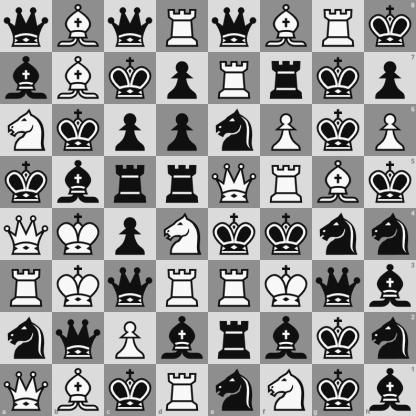B: (52, 364, 104, 416), (53, 1, 104, 52), (53, 53, 104, 104), (261, 1, 312, 52), (313, 157, 364, 208)
K: (53, 209, 104, 260), (53, 261, 104, 312), (261, 261, 312, 312)
N: (260, 364, 312, 416), (1, 105, 52, 156), (157, 209, 208, 260)
P: (364, 104, 416, 156), (105, 313, 156, 364), (261, 105, 312, 156)
Q: (0, 364, 52, 416), (1, 209, 52, 260), (209, 157, 260, 208)
R: (156, 364, 209, 416), (1, 261, 52, 312), (157, 1, 208, 52), (157, 261, 208, 312), (209, 53, 260, 104), (209, 261, 260, 312), (261, 157, 312, 208), (313, 1, 364, 52)
b: (364, 260, 416, 312), (364, 364, 416, 416), (1, 53, 52, 104), (53, 157, 104, 208), (157, 313, 208, 364), (261, 313, 312, 364)
board: (0, 0, 415, 415)
k: (364, 156, 416, 209), (104, 364, 156, 416), (312, 364, 364, 416), (364, 0, 416, 52), (1, 157, 52, 208), (53, 105, 104, 156), (105, 53, 156, 104), (209, 209, 260, 260), (261, 209, 312, 260), (313, 53, 364, 104), (313, 105, 364, 156), (313, 313, 364, 364)
n: (364, 312, 416, 364), (209, 364, 260, 416), (364, 209, 416, 260), (1, 313, 52, 364), (209, 105, 260, 156), (313, 209, 364, 260)
p: (364, 52, 416, 104), (105, 105, 156, 156), (105, 209, 156, 260), (157, 53, 208, 104), (157, 105, 208, 156)
q: (1, 1, 52, 52), (53, 313, 104, 364), (105, 1, 156, 52), (105, 261, 156, 312), (209, 1, 260, 52), (313, 261, 364, 312)
r: (105, 157, 156, 208), (157, 157, 208, 208), (209, 313, 260, 364), (261, 53, 312, 104)
